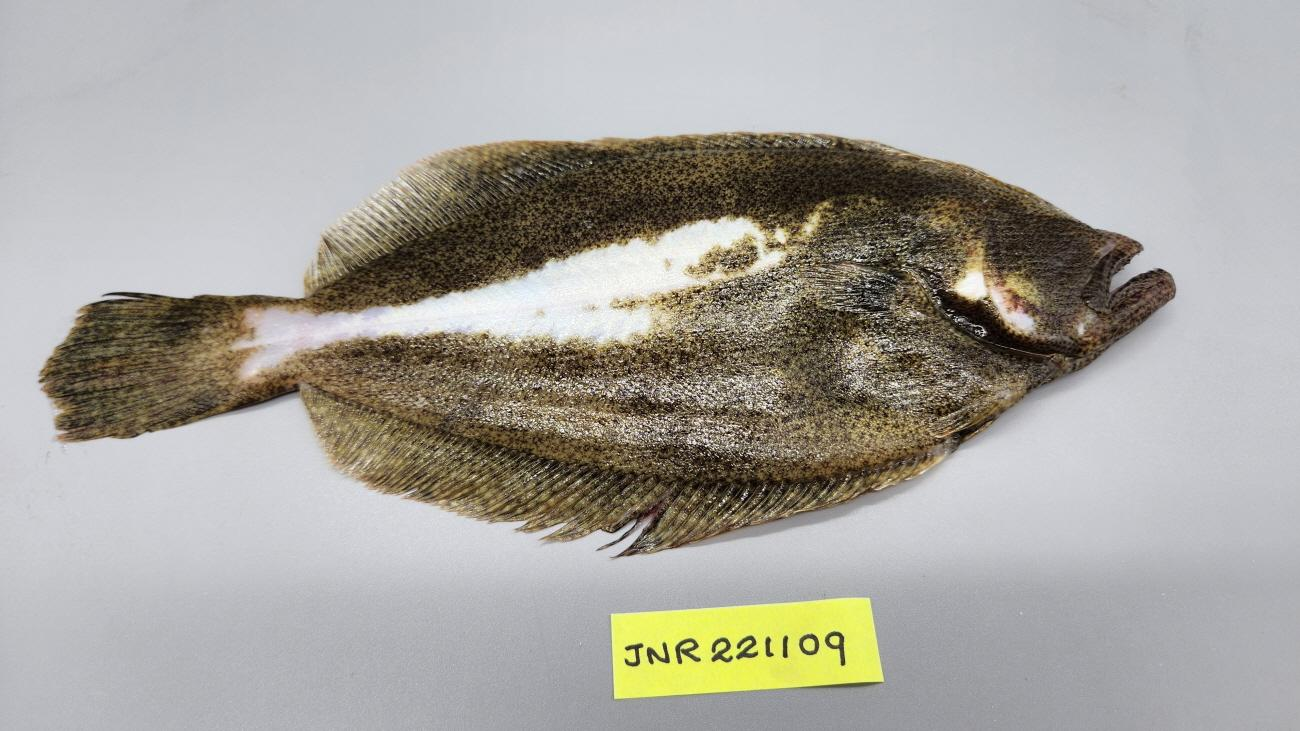POOUN: (35, 129, 1186, 568)
